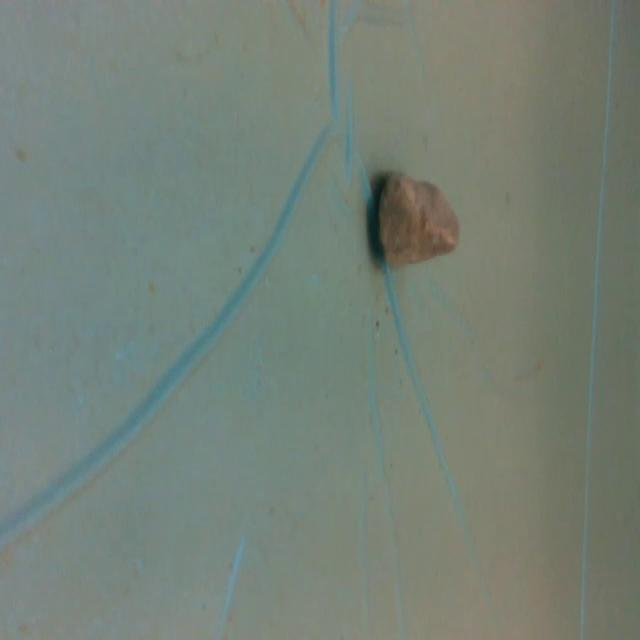rock: (372, 164, 465, 280)
